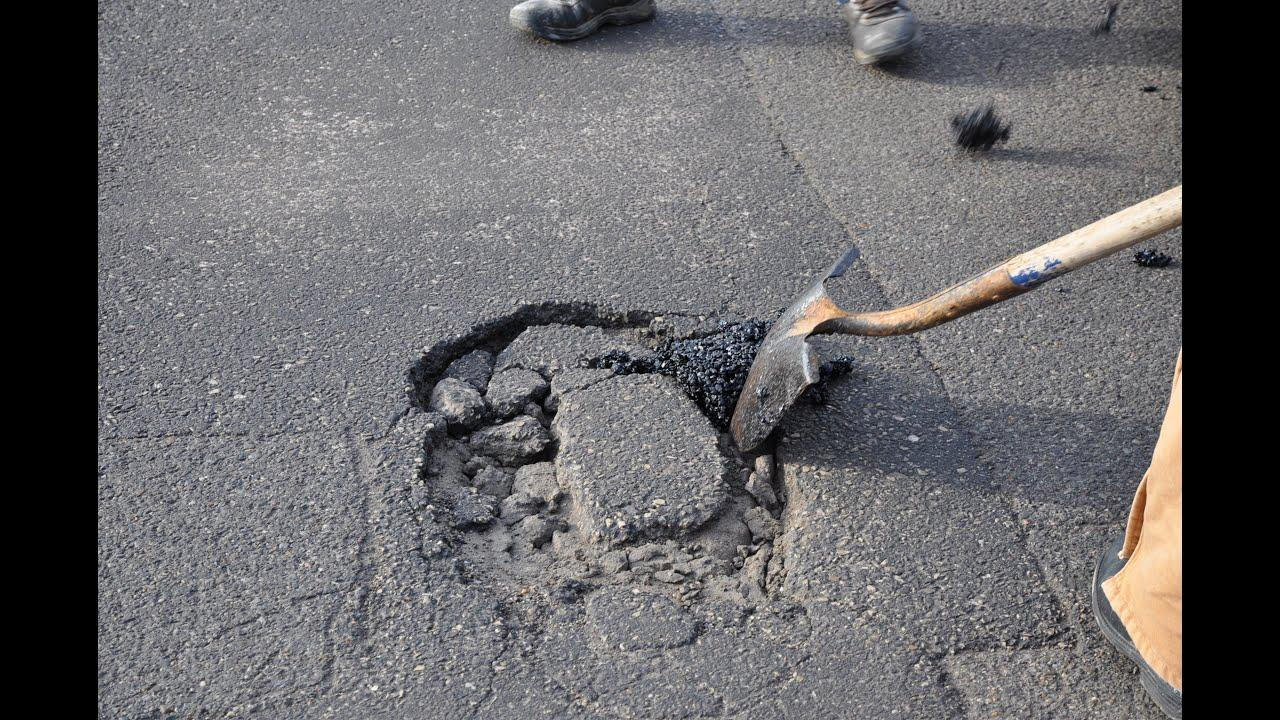Pothole: (404, 290, 836, 633)
